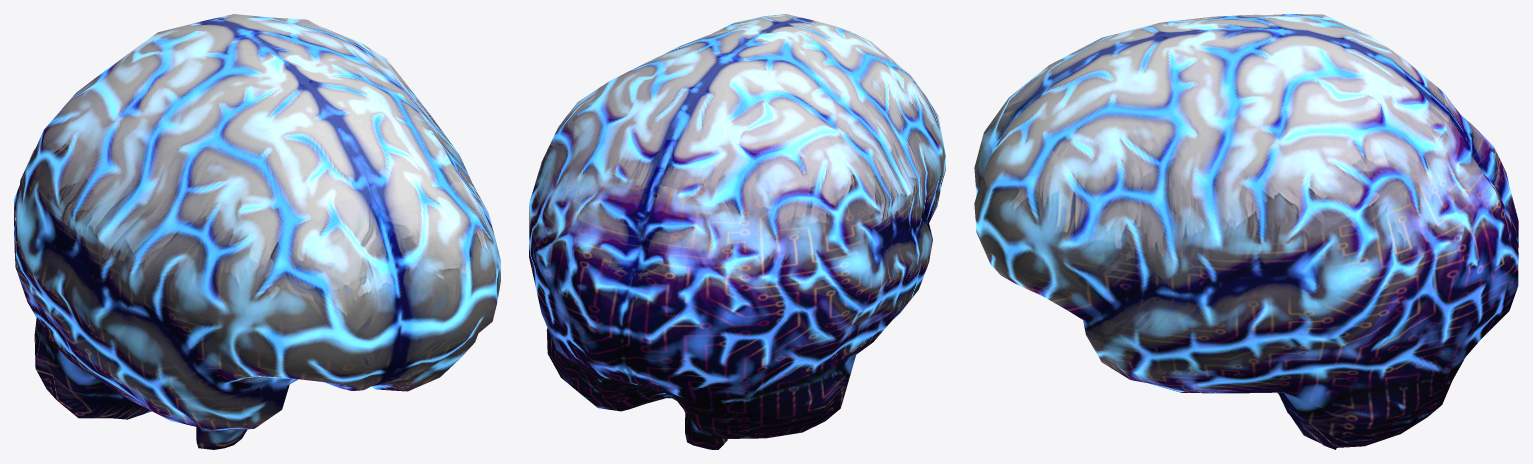
File: WebsiteBrain.glb
3 views of the same model, side by side, from view 1: azimuth 30°, elevation 25°; view 2: azimuth 150°, elevation 25°; view 3: azimuth 270°, elevation 25° (orthographic). The views are drawn at different scales.
Parts seen in each view (by area): view 1: BrainFinal; view 2: BrainFinal; view 3: BrainFinal.
Boxes of the visible parts, x1=… form: BrainFinal: x1=14, y1=14, x2=500, y2=449; BrainFinal: x1=529, y1=14, x2=945, y2=449; BrainFinal: x1=974, y1=14, x2=1518, y2=449.
Size of the model in its own units: 0.1503 by 0.1581 by 0.1887.
1 material, 1 textured.
